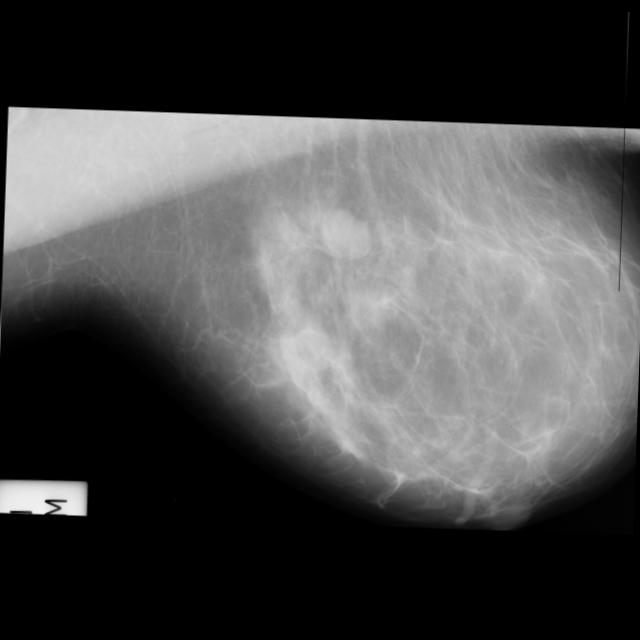CIRC: (0, 251, 374, 580)
